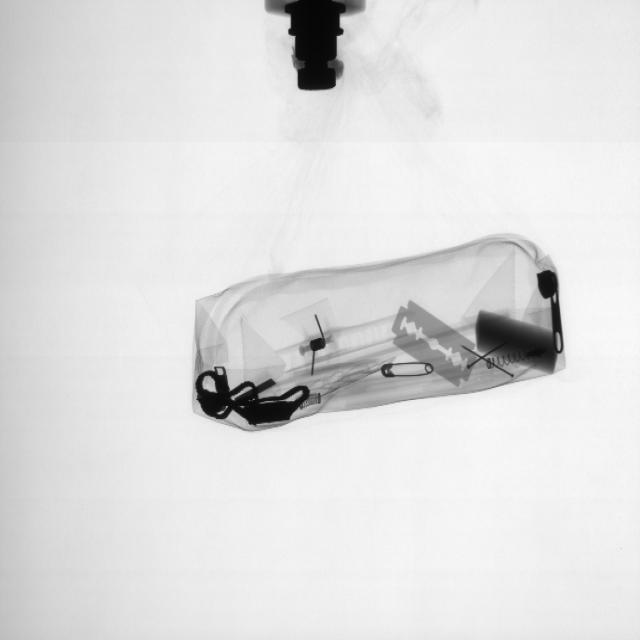BLADE: (390, 296, 479, 389)
